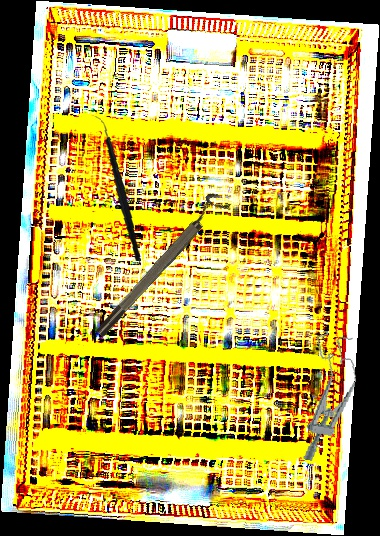Chopper: (78, 115, 156, 262)
Fixation Ring: (87, 189, 231, 340)
Speculum: (294, 329, 364, 467)
